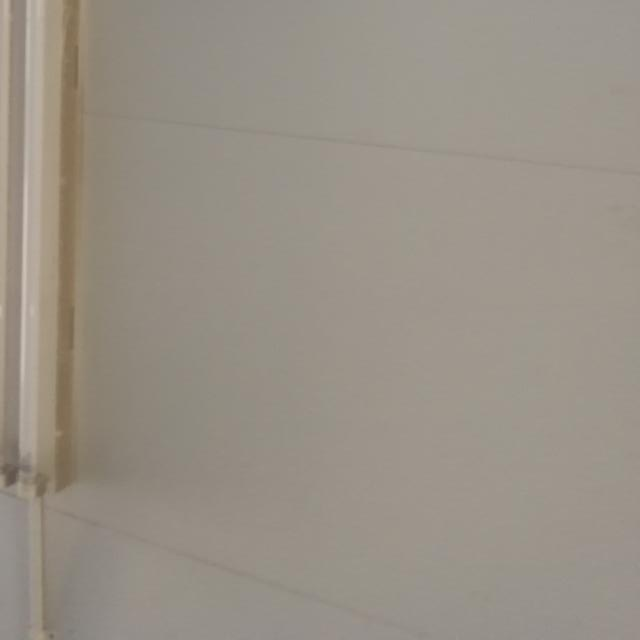fluorescent tube: (1, 0, 135, 537)
